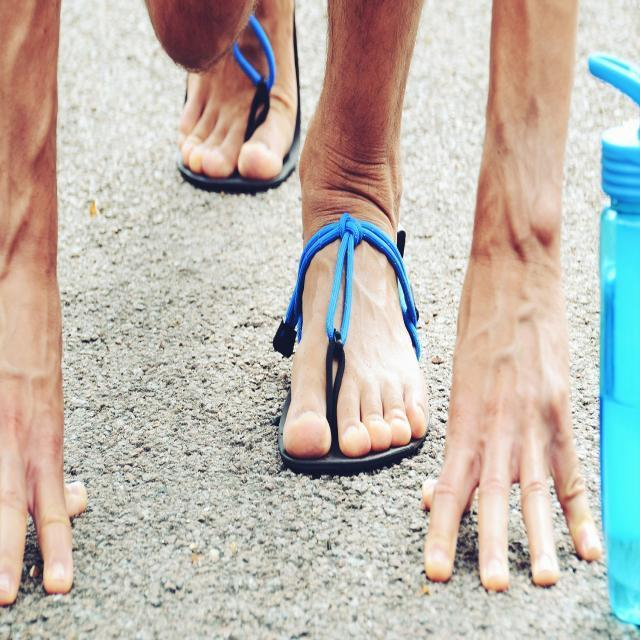No_Shoe: (281, 98, 434, 460)
